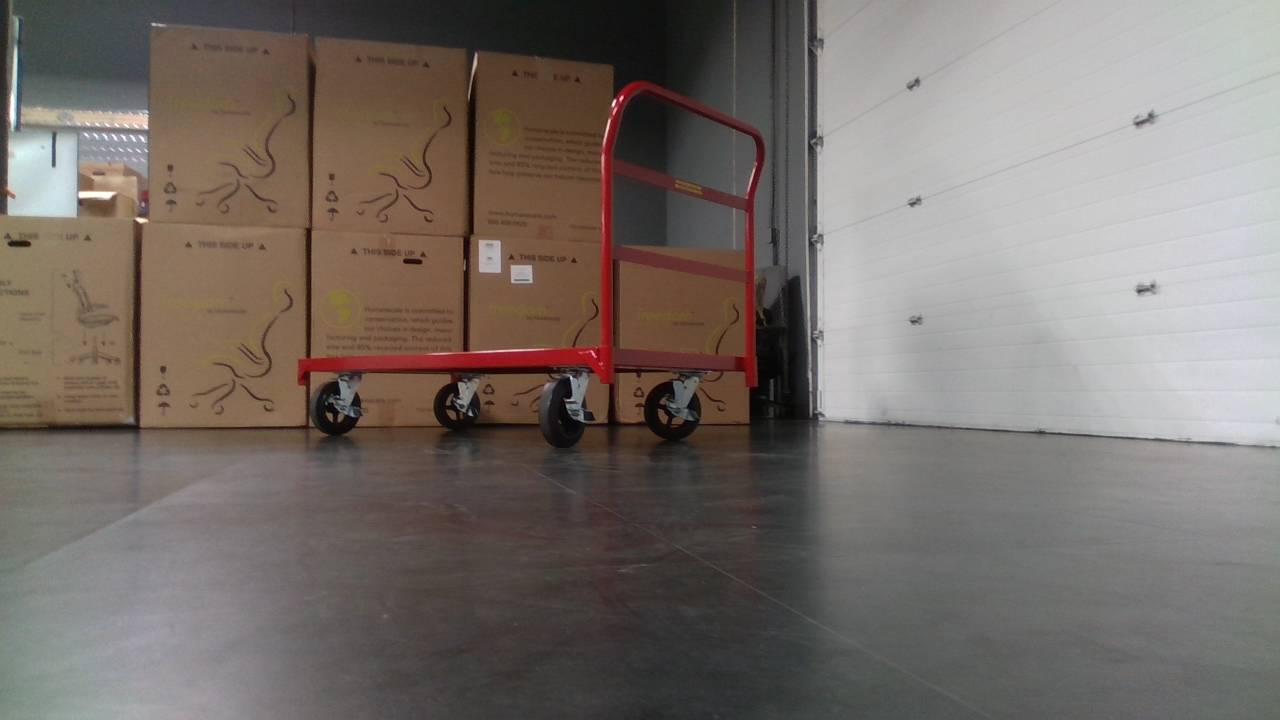Dolly: (290, 66, 776, 448)
Wheel: (645, 373, 710, 446), (537, 374, 597, 447), (427, 375, 487, 439), (307, 381, 364, 442)
